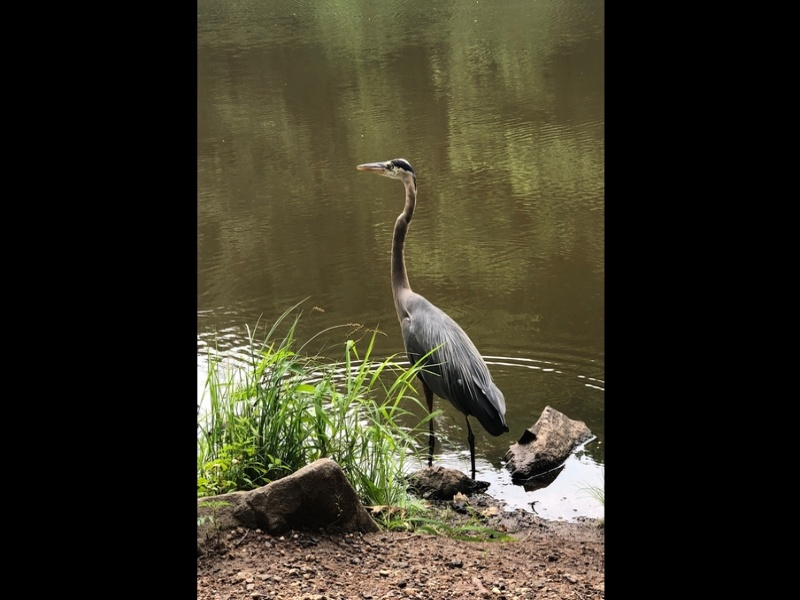heron: (355, 156, 510, 439)
